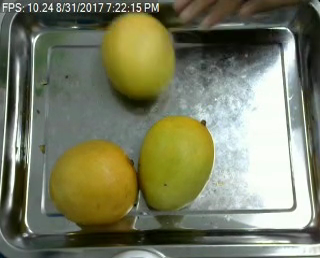Mango: (49, 140, 136, 225), (137, 117, 214, 210), (100, 11, 175, 97)
